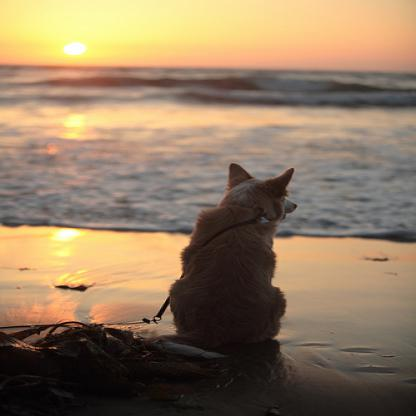dog: (172, 163, 298, 345)
